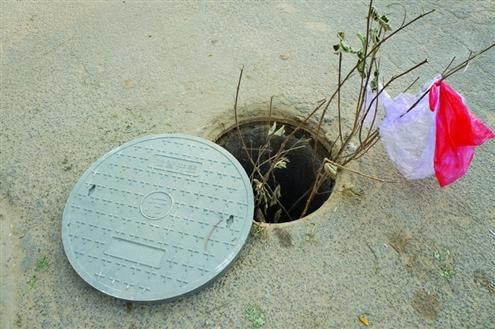uncovered: (57, 97, 373, 301)
